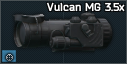Armasight Vulcan MG 3.5x night vision scope: (0, 0, 127, 64)
